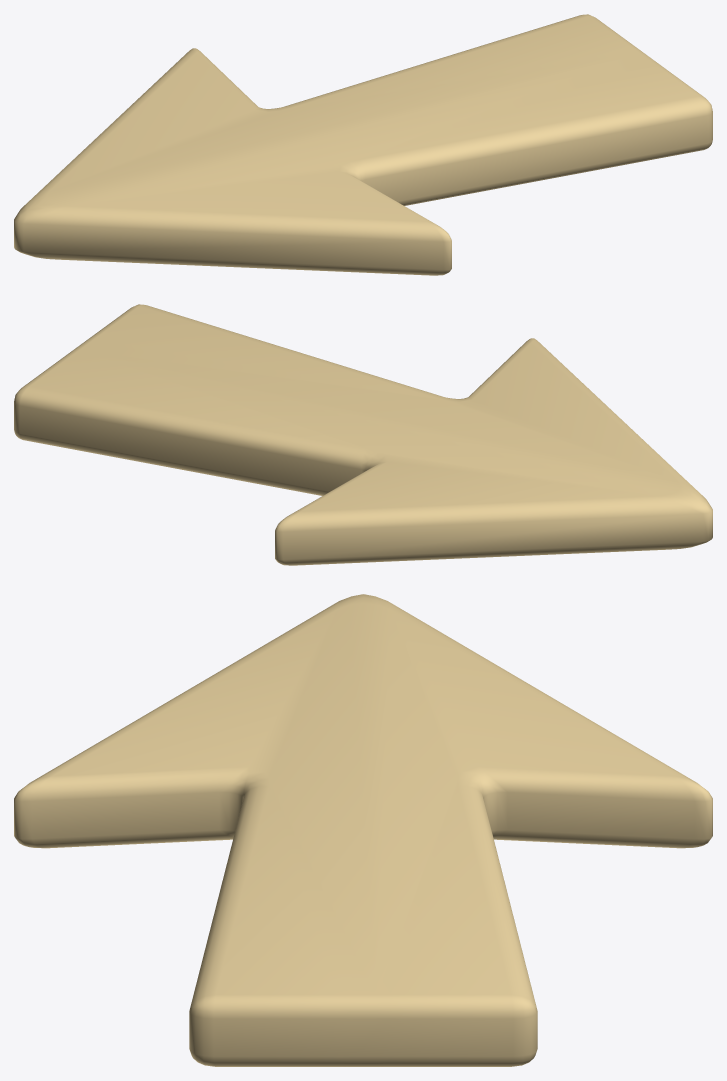
File: arrow1.fbx
The picture shows the model from 3 angles, top to bottom: view 1: azimuth 30°, elevation 25°; view 2: azimuth 150°, elevation 25°; view 3: azimuth 270°, elevation 25°; orthographic projection. The views are drawn at different scales.
Parts seen in each view (by area): view 1: Arrow; view 2: Arrow; view 3: Arrow.
Boxes of the visible parts, x1,y1,x2,y2 form: Arrow: (14, 14, 712, 275); Arrow: (14, 304, 712, 565); Arrow: (14, 594, 712, 1066).
Bounding box in the file's own units: 301 × 23.43 × 211.
